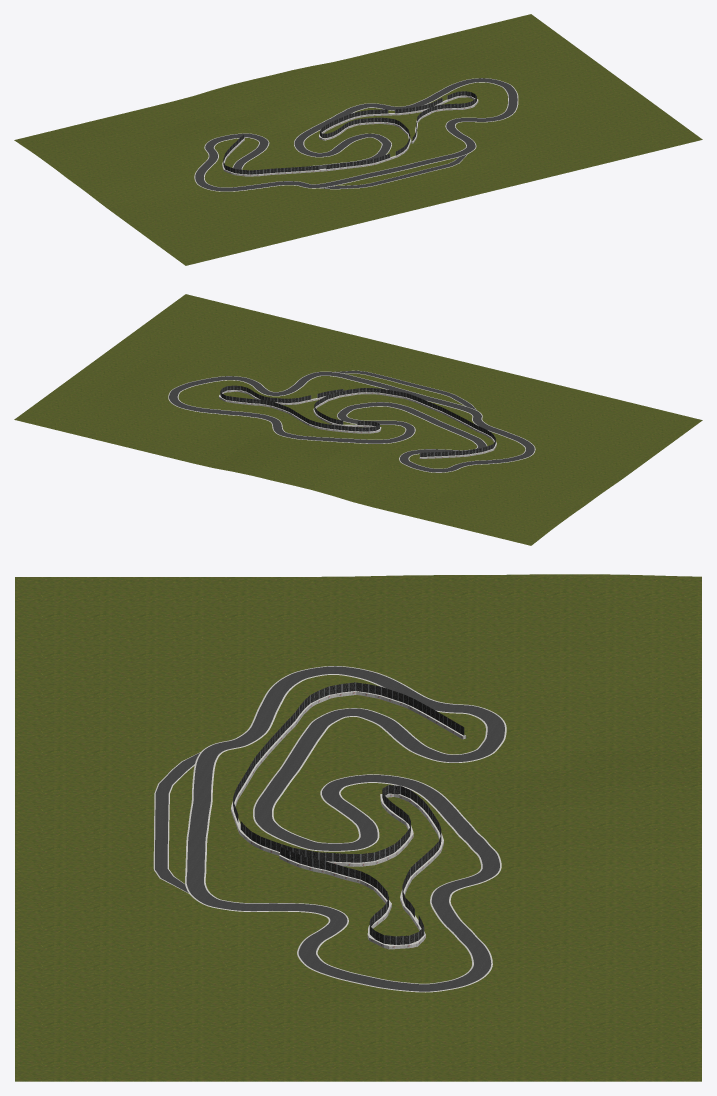
File: intento2.fbx
3 views of the same model, one above another, from view 1: azimuth 30°, elevation 25°; view 2: azimuth 150°, elevation 25°; view 3: azimuth 270°, elevation 25° (orthographic). The views are drawn at different scales.
Visible parts, largest first — view 1: terreno, pista.001, barrera; view 2: terreno, pista.001, barrera; view 3: terreno, pista.001, barrera.
Boxes of the visible parts, bbox=[...] form: terreno: bbox=[14, 14, 702, 265]; pista.001: bbox=[194, 78, 518, 191]; barrera: bbox=[222, 91, 478, 176]; terreno: bbox=[14, 294, 702, 545]; pista.001: bbox=[168, 370, 535, 472]; barrera: bbox=[219, 385, 496, 458]; terreno: bbox=[15, 574, 701, 1081]; pista.001: bbox=[153, 666, 506, 992]; barrera: bbox=[231, 682, 466, 949].
Size of the model in its own units: 566 by 9.47 by 325.
Materials: 6 (6 with a texture image).
